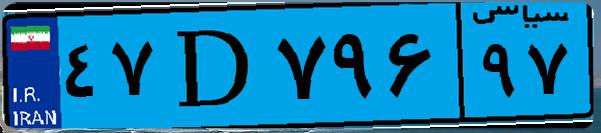4: (57, 26, 110, 100)
6: (385, 28, 445, 110)
7: (270, 28, 330, 110), (525, 38, 570, 115), (110, 28, 158, 98)
9: (330, 28, 385, 110), (475, 38, 525, 113)
D: (158, 12, 270, 120)
